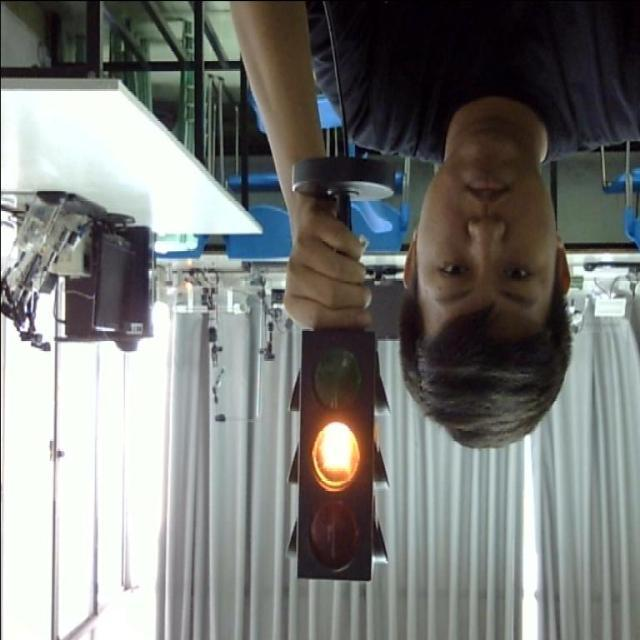yellow light: (302, 417, 362, 493)
